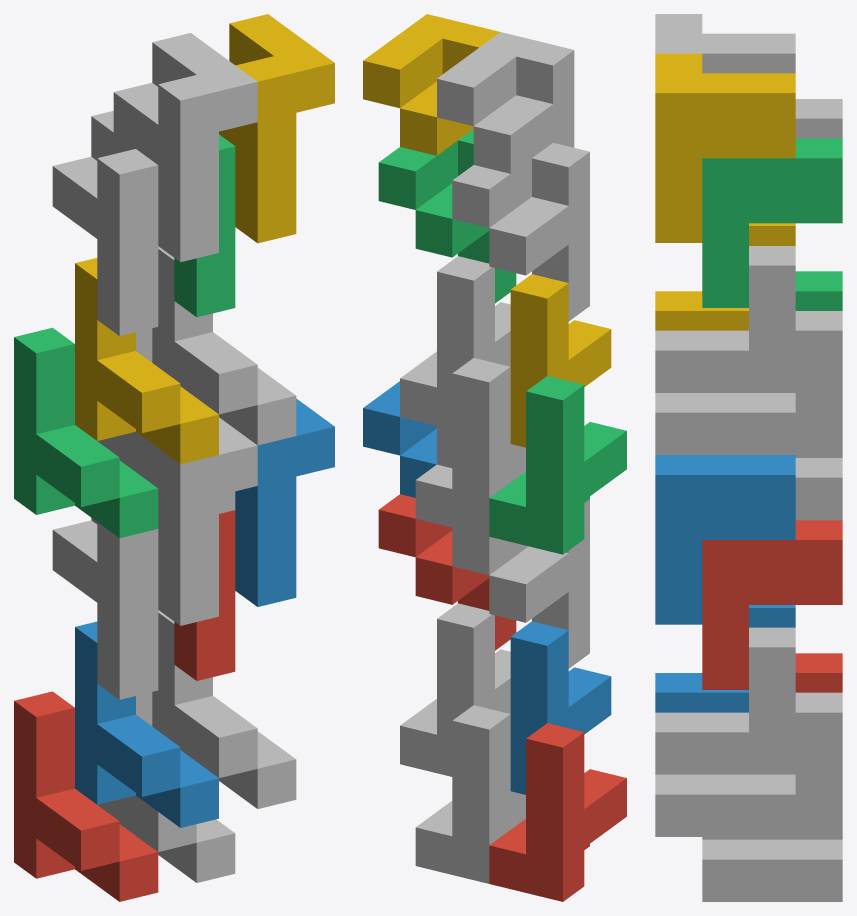
The model's file is tiling.obj.
3 views of the same model, side by side, from view 1: azimuth 30°, elevation 25°; view 2: azimuth 150°, elevation 25°; view 3: azimuth 270°, elevation 25° (orthographic). The views are drawn at different scales.
Parts seen in each view (by area): view 1: copy_2_domain_4, copy_1_domain_1, copy_1_domain_3, copy_2_domain_8, copy_2_domain_3, copy_1_domain_2, copy_1_domain_4, copy_2_domain_1, copy_2_domain_2, copy_1_domain_8, copy_1_domain_6, copy_2_domain_6 (+4 smaller); view 2: copy_2_domain_3, copy_1_domain_1, copy_1_domain_3, copy_2_domain_4, copy_1_domain_5, copy_1_domain_7, copy_2_domain_1, copy_1_domain_6, copy_1_domain_8, copy_2_domain_8, copy_1_domain_2, copy_1_domain_4 (+4 smaller); view 3: copy_1_domain_6, copy_1_domain_8, copy_2_domain_8, copy_1_domain_5, copy_2_domain_6, copy_2_domain_7, copy_2_domain_5, copy_1_domain_7, copy_2_domain_4, copy_1_domain_2, copy_1_domain_4, copy_1_domain_1 (+2 smaller).
Part boxes in pixels (x1,y1,x2,y2): copy_2_domain_4: (113, 33, 257, 262); copy_1_domain_1: (14, 691, 158, 901); copy_1_domain_3: (14, 327, 158, 538); copy_2_domain_8: (219, 14, 334, 243); copy_2_domain_3: (52, 111, 158, 335); copy_1_domain_2: (75, 621, 218, 827); copy_1_domain_4: (75, 258, 218, 464); copy_2_domain_1: (52, 518, 158, 699); copy_2_domain_2: (158, 417, 257, 625); copy_1_domain_8: (152, 246, 296, 445); copy_1_domain_6: (152, 610, 296, 808); copy_2_domain_6: (235, 398, 334, 606); copy_2_domain_3: (452, 142, 589, 321); copy_1_domain_1: (489, 723, 626, 901); copy_1_domain_3: (489, 376, 626, 554); copy_2_domain_4: (437, 32, 574, 173); copy_1_domain_5: (415, 705, 525, 883); copy_1_domain_7: (415, 358, 525, 536); copy_2_domain_1: (452, 499, 589, 668); copy_1_domain_6: (400, 603, 510, 776); copy_1_domain_8: (400, 256, 510, 429); copy_2_domain_8: (363, 14, 499, 155); copy_1_domain_2: (510, 621, 611, 794); copy_1_domain_4: (510, 274, 611, 447); copy_1_domain_6: (655, 627, 795, 836); copy_1_domain_8: (655, 246, 795, 454); copy_2_domain_8: (655, 53, 795, 242); copy_1_domain_5: (702, 692, 842, 901); copy_2_domain_6: (655, 455, 795, 624); copy_2_domain_7: (702, 138, 842, 307); copy_2_domain_5: (702, 520, 842, 689); copy_1_domain_7: (795, 311, 842, 520); copy_2_domain_4: (655, 14, 795, 73); copy_1_domain_2: (655, 605, 795, 712); copy_1_domain_4: (655, 223, 795, 330); copy_1_domain_1: (795, 653, 842, 692).
Bounding box in the file's own units: 6 × 20 × 4.
